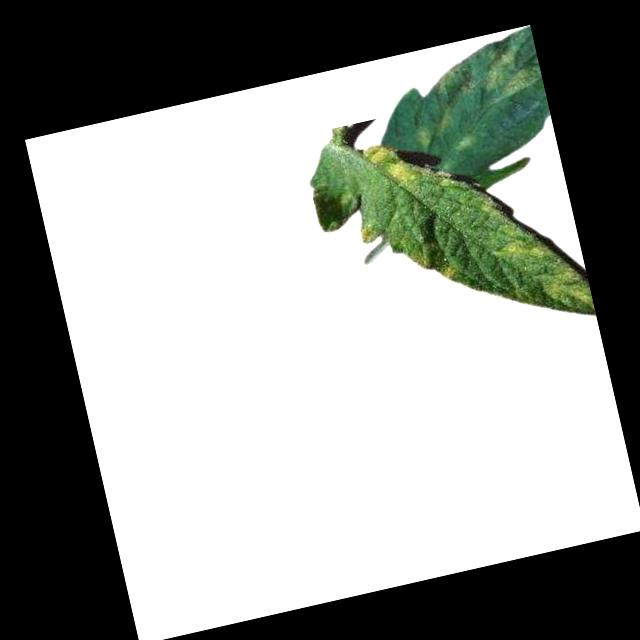Leaf_Mold: (470, 26, 544, 103), (358, 136, 417, 194), (495, 230, 556, 268), (355, 221, 378, 246), (439, 262, 462, 283)
